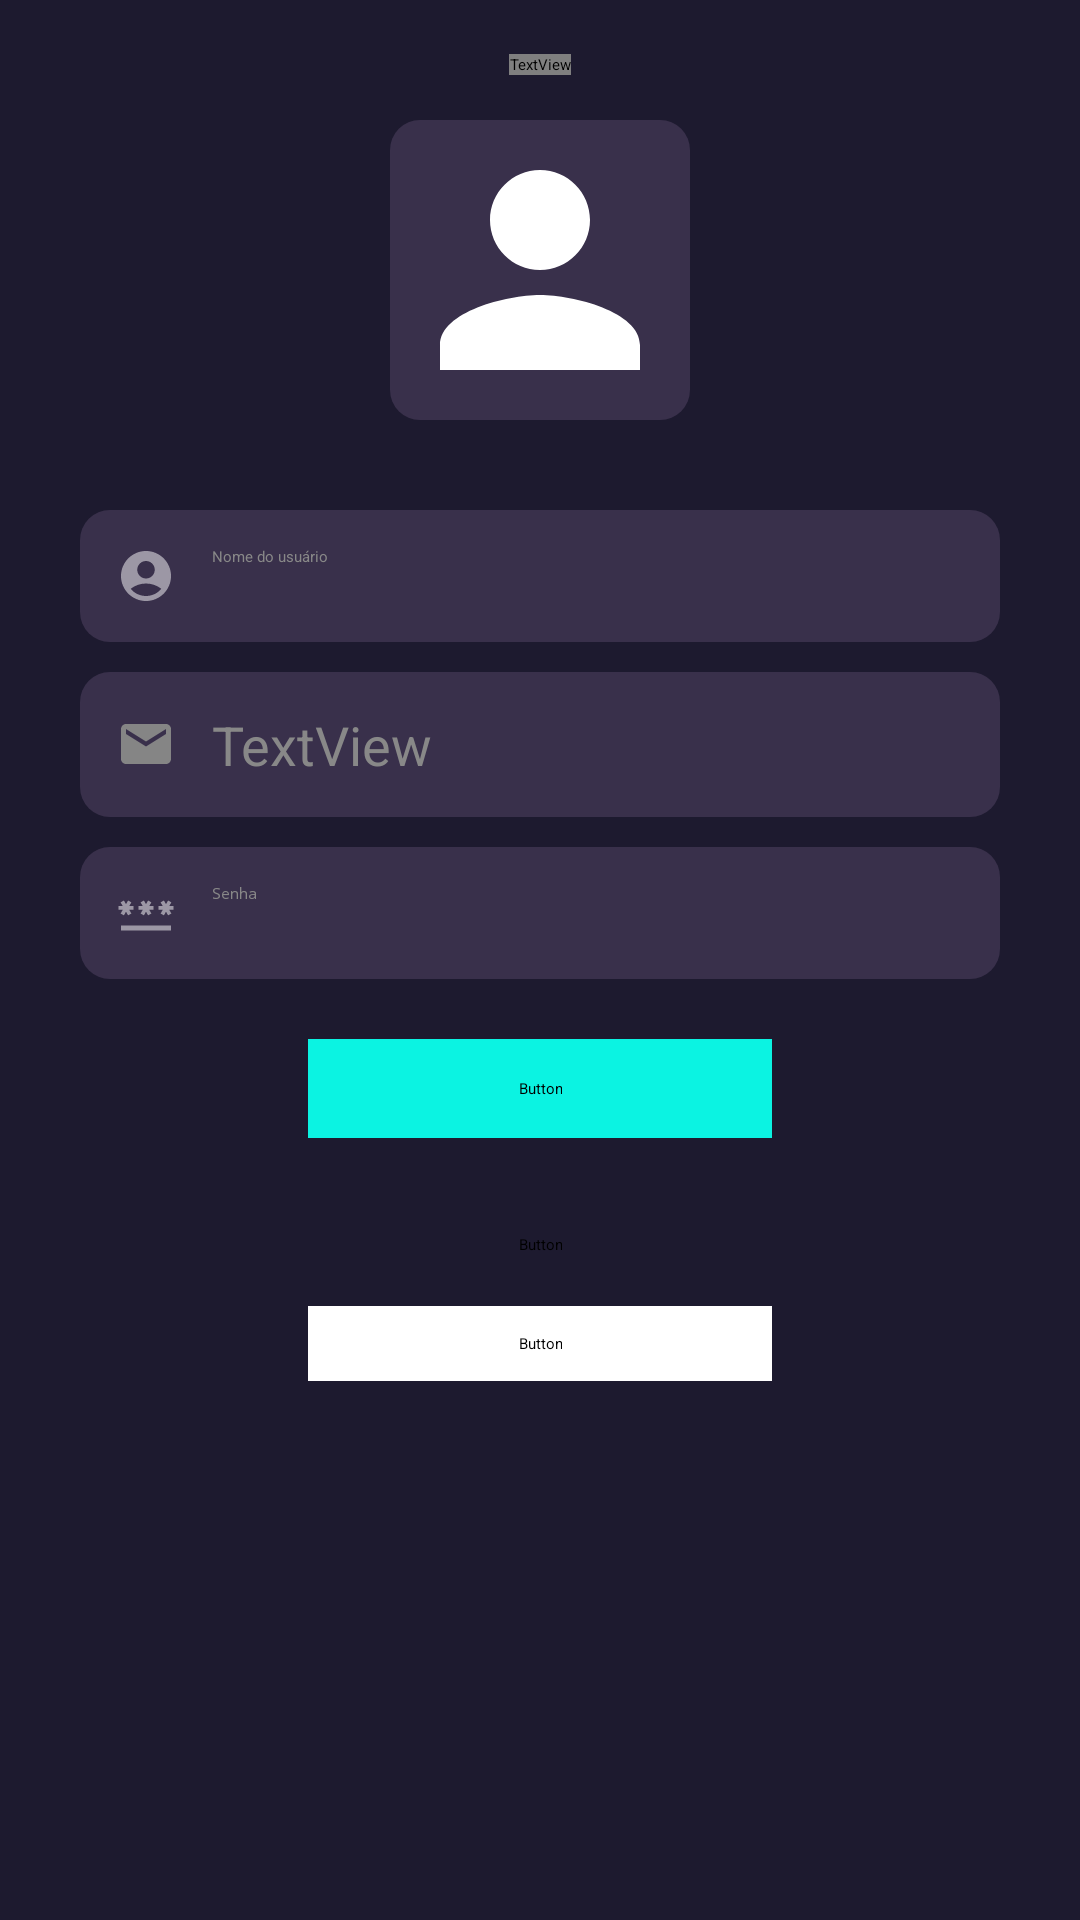

Where to tap for icons on this 1080w x 1920h app screen, as (x=x, y=y):
Foto de perfil: (x=540, y=270)
